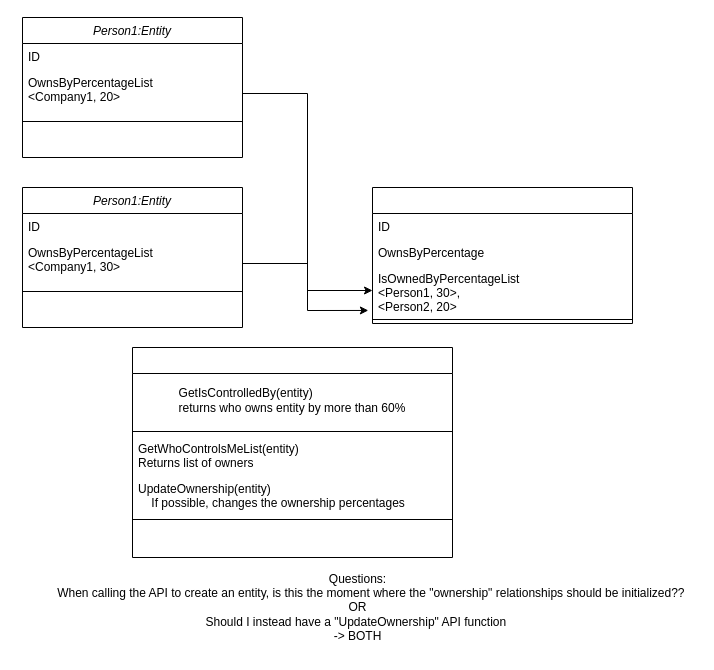
This 714x670 diagram has some shape labels left out. The box of each missing label's shape, as (x1, y1, x2, y2) in pixels:
Company1:Entity: (372, 186, 632, 324)
IOwnedRelations: (132, 346, 452, 558)
